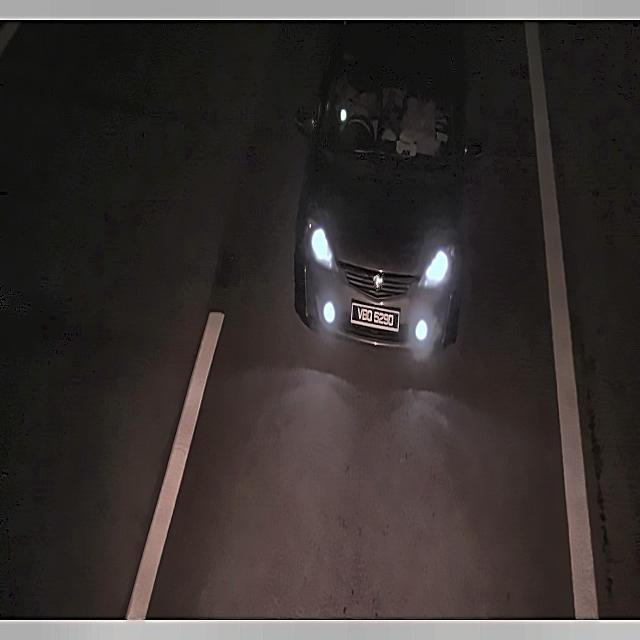car: (347, 292, 412, 348)
